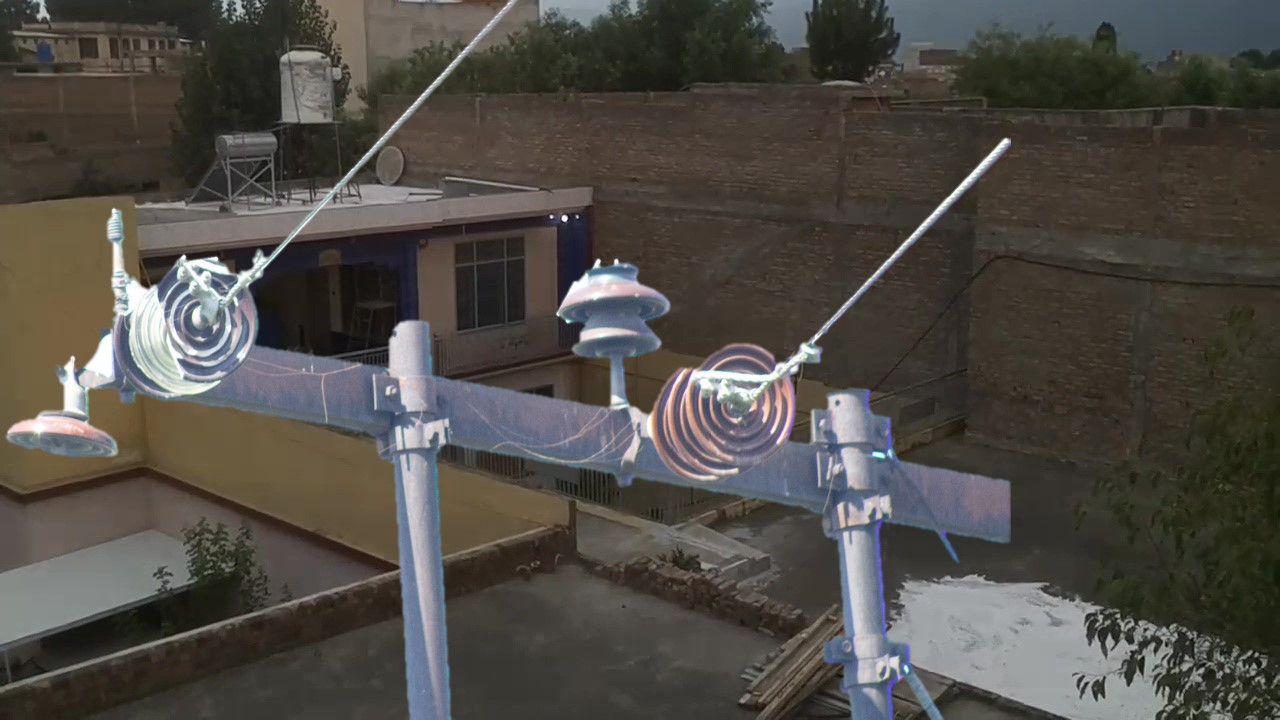defect_disc: (155, 251, 263, 384)
insulator_disc: (684, 333, 798, 467), (6, 397, 128, 470)
